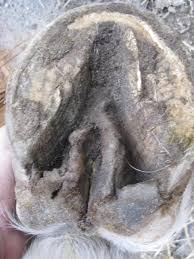horsesole: (7, 3, 194, 192)
